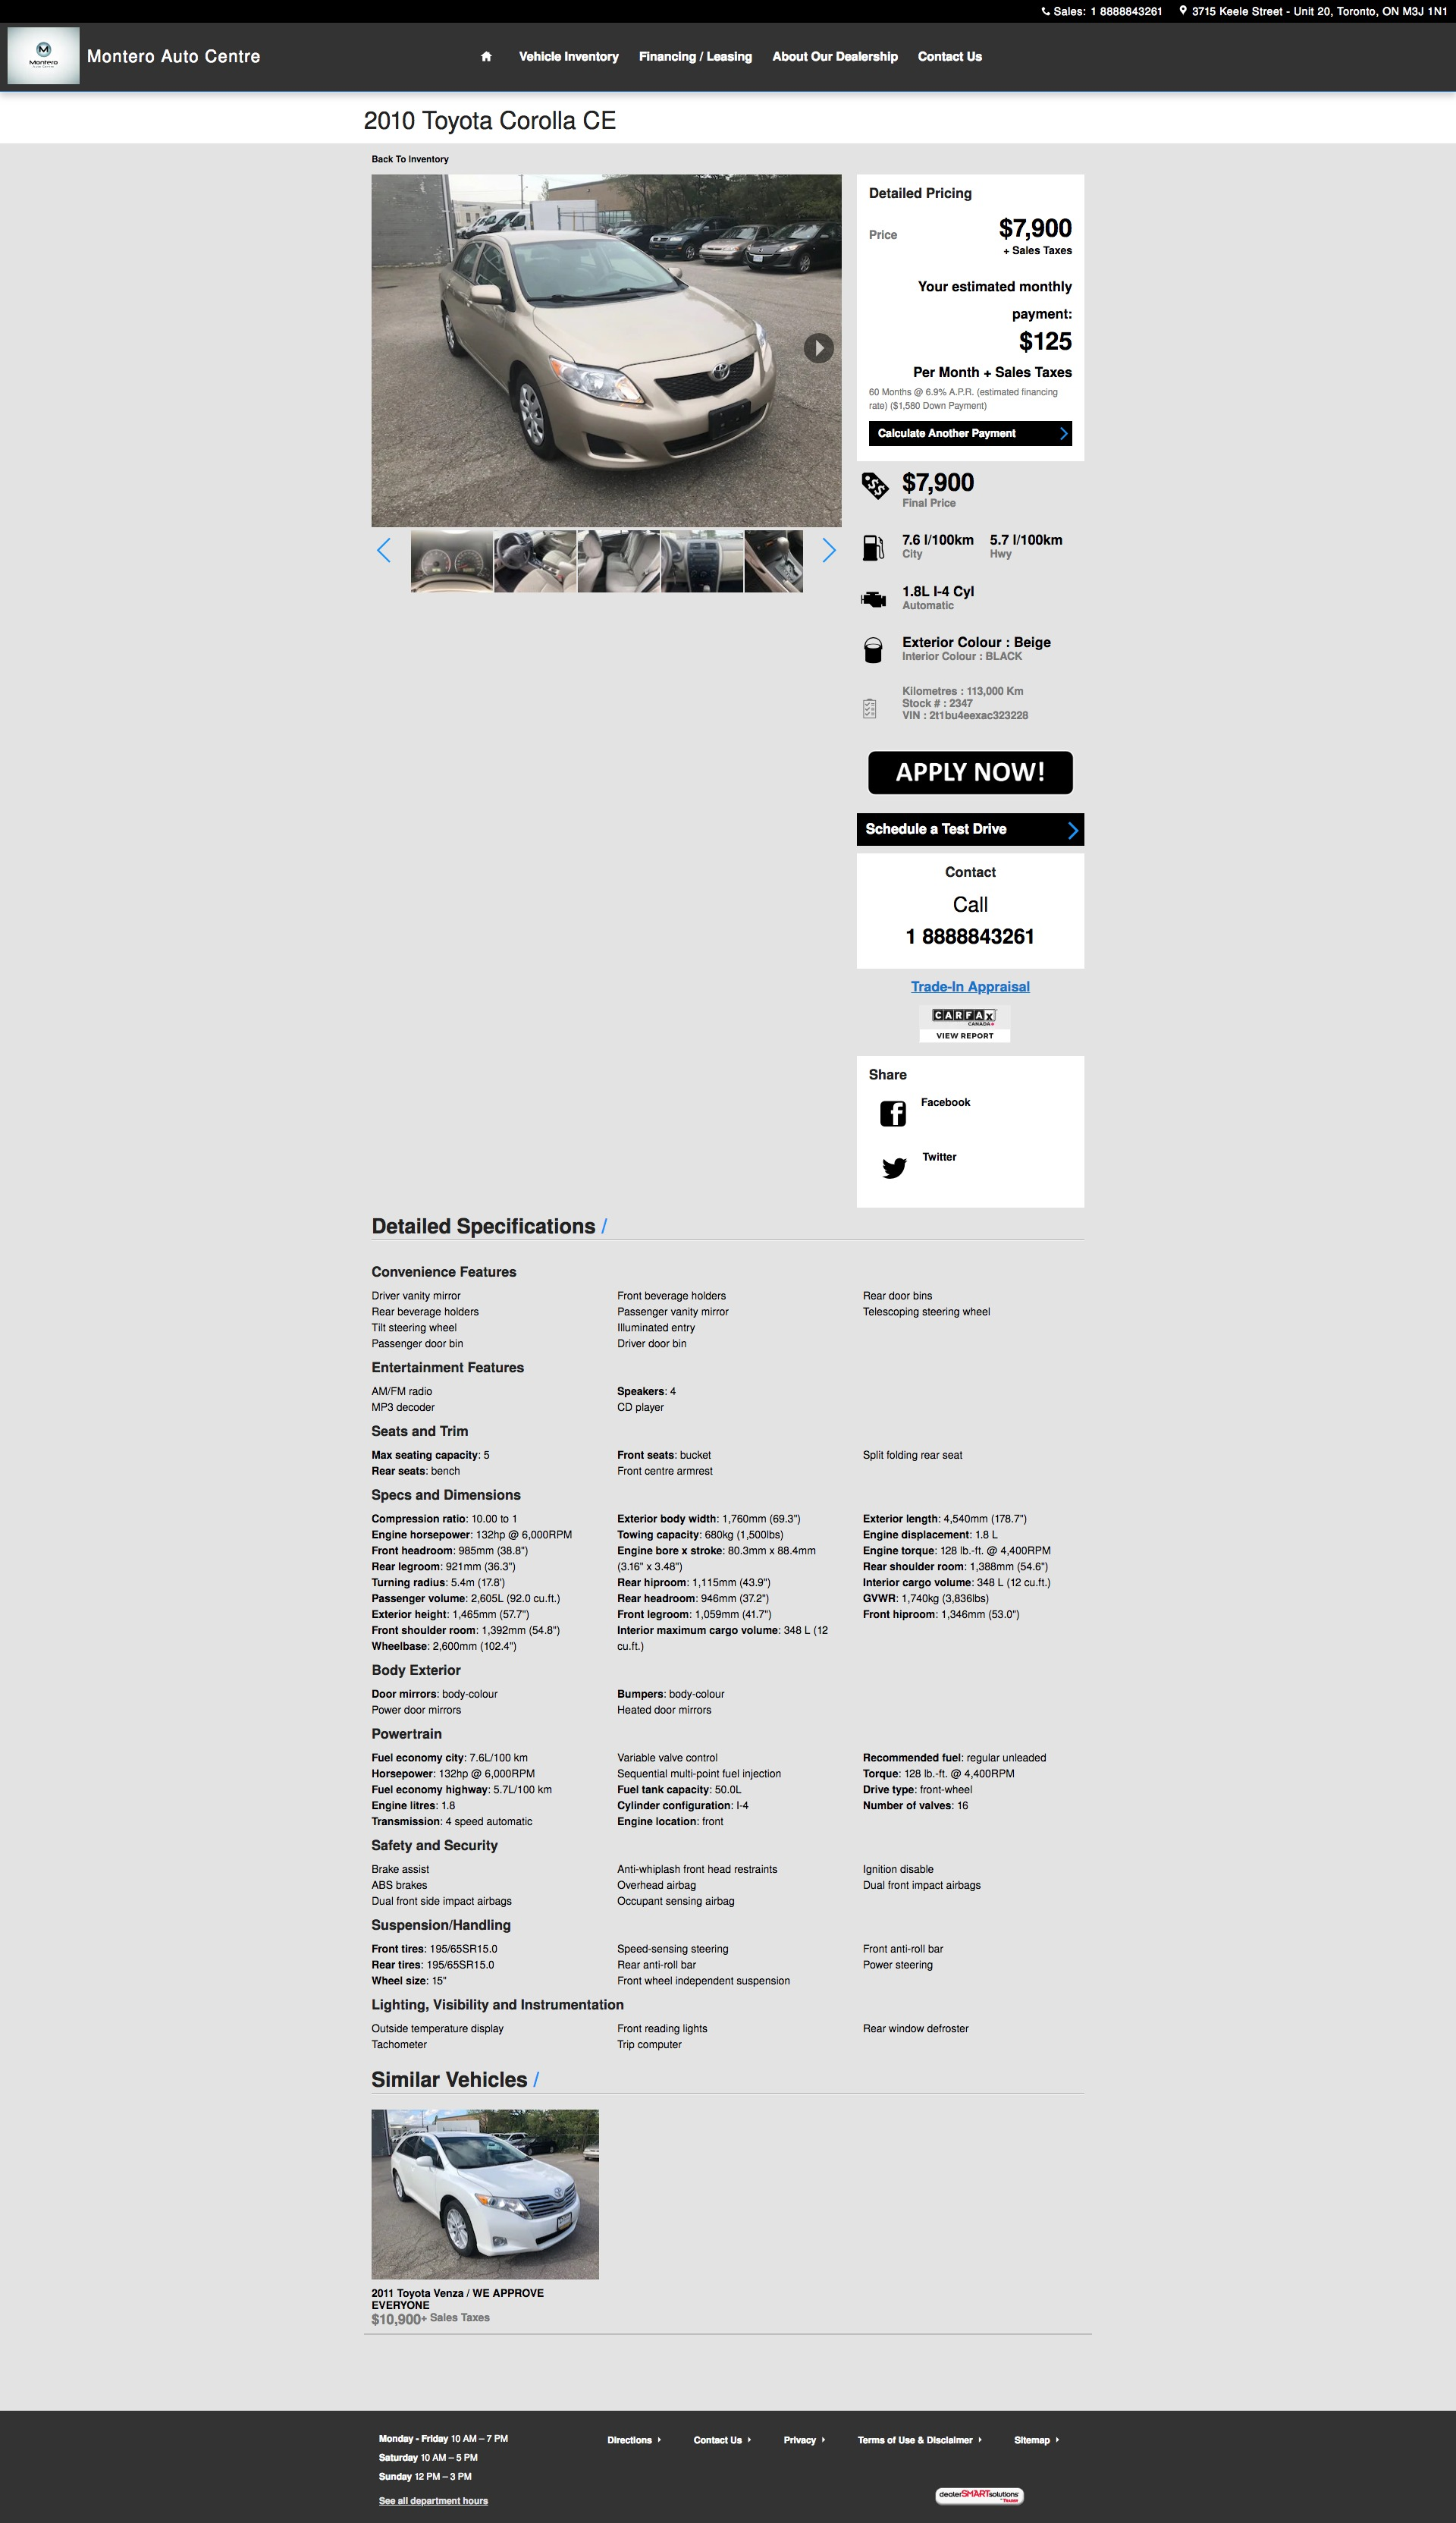car: (822, 538, 837, 564)
